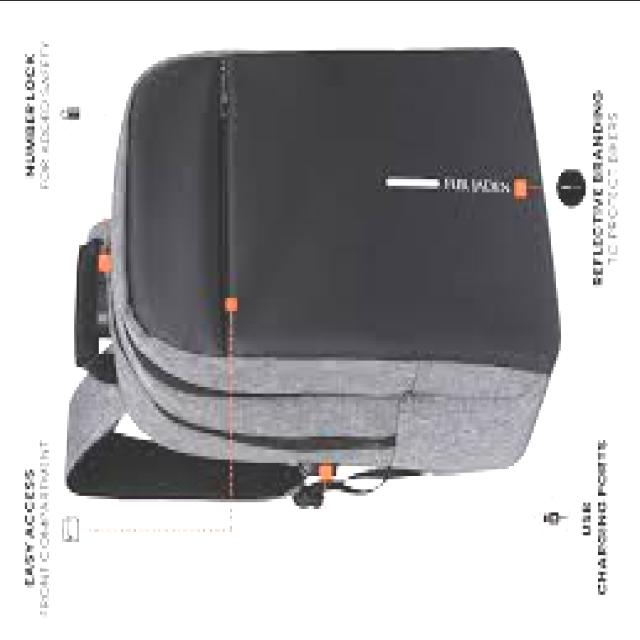backpack: (63, 47, 562, 509)
